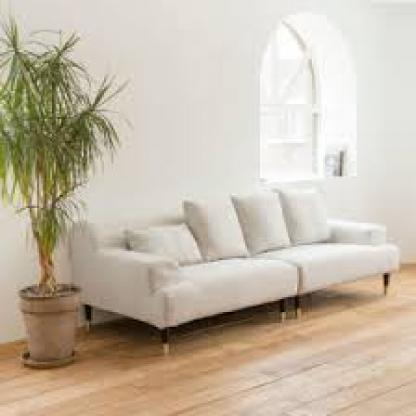sofa: (69, 193, 406, 368)
